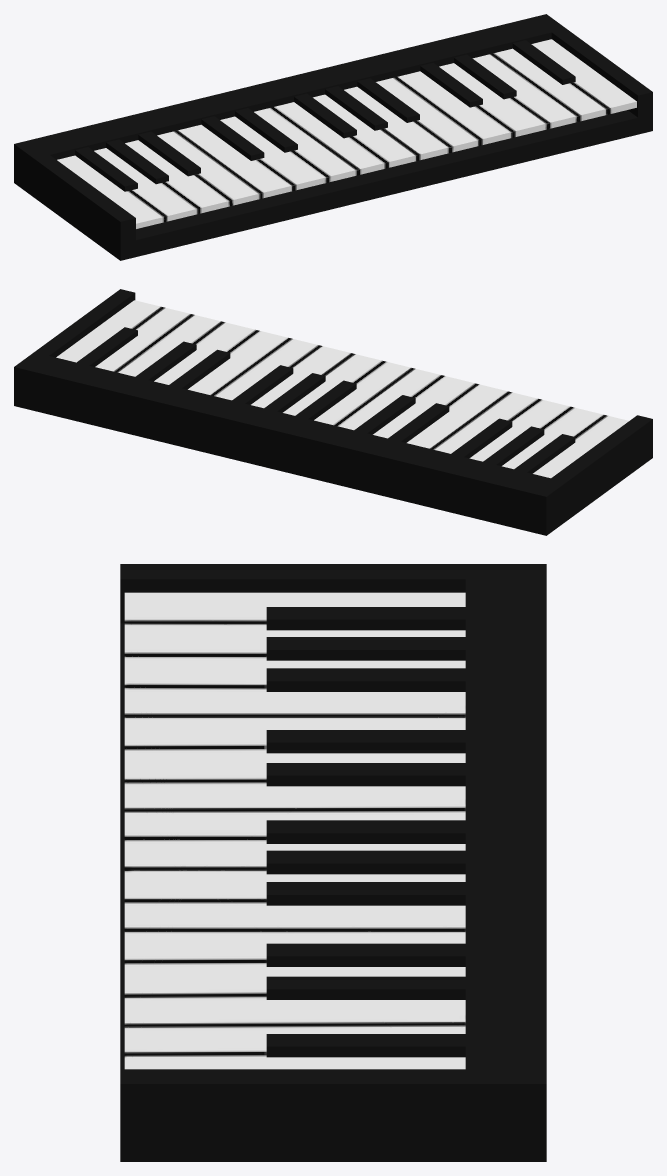
Rendered from piano1.glb.
The picture shows the model from 3 angles, top to bottom: view 1: azimuth 30°, elevation 25°; view 2: azimuth 150°, elevation 25°; view 3: azimuth 270°, elevation 25°; orthographic projection. The views are drawn at different scales.
Visible parts, largest first — view 1: Plane; view 2: Plane; view 3: Plane.
Part boxes in pixels (<box>): Plane: <box>14,14,652,260</box>; Plane: <box>14,289,652,535</box>; Plane: <box>120,564,546,1161</box>.
Bounding box in the file's own units: 8.48 × 0.5933 × 2.94.
2 materials, 1 textured.
